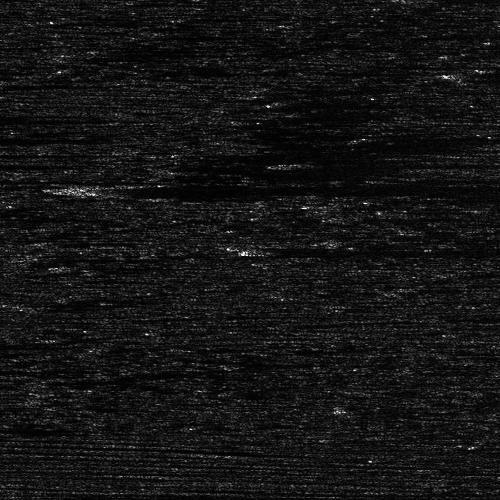rock: (0, 169, 231, 206), (423, 62, 496, 79), (212, 244, 285, 255), (260, 160, 323, 167), (385, 0, 438, 1)
shadow: (86, 169, 500, 206), (249, 244, 500, 255), (0, 493, 386, 500), (0, 67, 121, 80), (0, 174, 126, 185), (0, 112, 147, 121), (0, 148, 119, 157), (460, 62, 500, 79), (0, 132, 57, 143), (292, 160, 356, 167), (0, 339, 35, 346), (0, 426, 64, 429)
